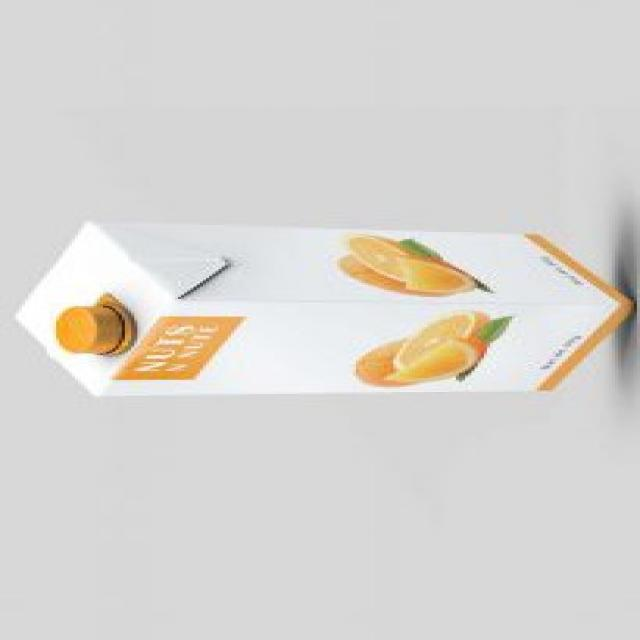non_white_jug: (16, 217, 636, 399)
